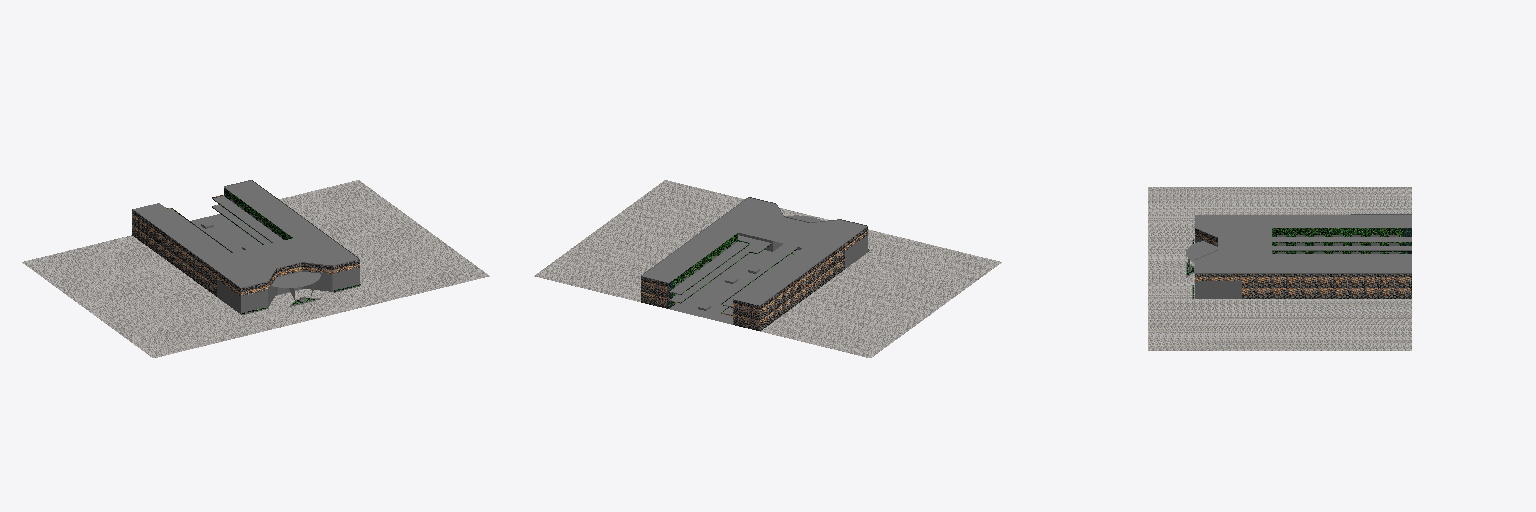
3 views of the same model, side by side, from view 1: azimuth 30°, elevation 25°; view 2: azimuth 150°, elevation 25°; view 3: azimuth 270°, elevation 25° (orthographic).
Visible parts, largest first — view 1: __5630_; view 2: __5630_; view 3: __5630_.
Boxes of the visible parts, x1=… form: __5630_: x1=22, y1=180, x2=489, y2=357; __5630_: x1=534, y1=180, x2=1001, y2=357; __5630_: x1=1148, y1=187, x2=1411, y2=350.
Bounding box in the file's own units: 16361 × 1224 × 11069.
Materials: 9 (4 with a texture image).